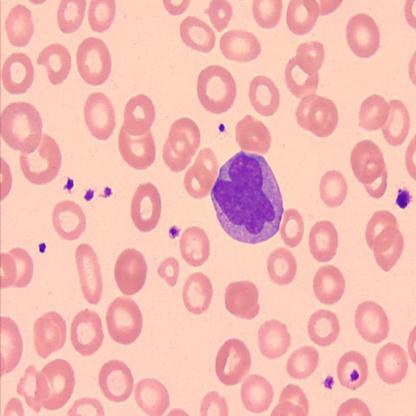Monocyte: (208, 148, 286, 246)
